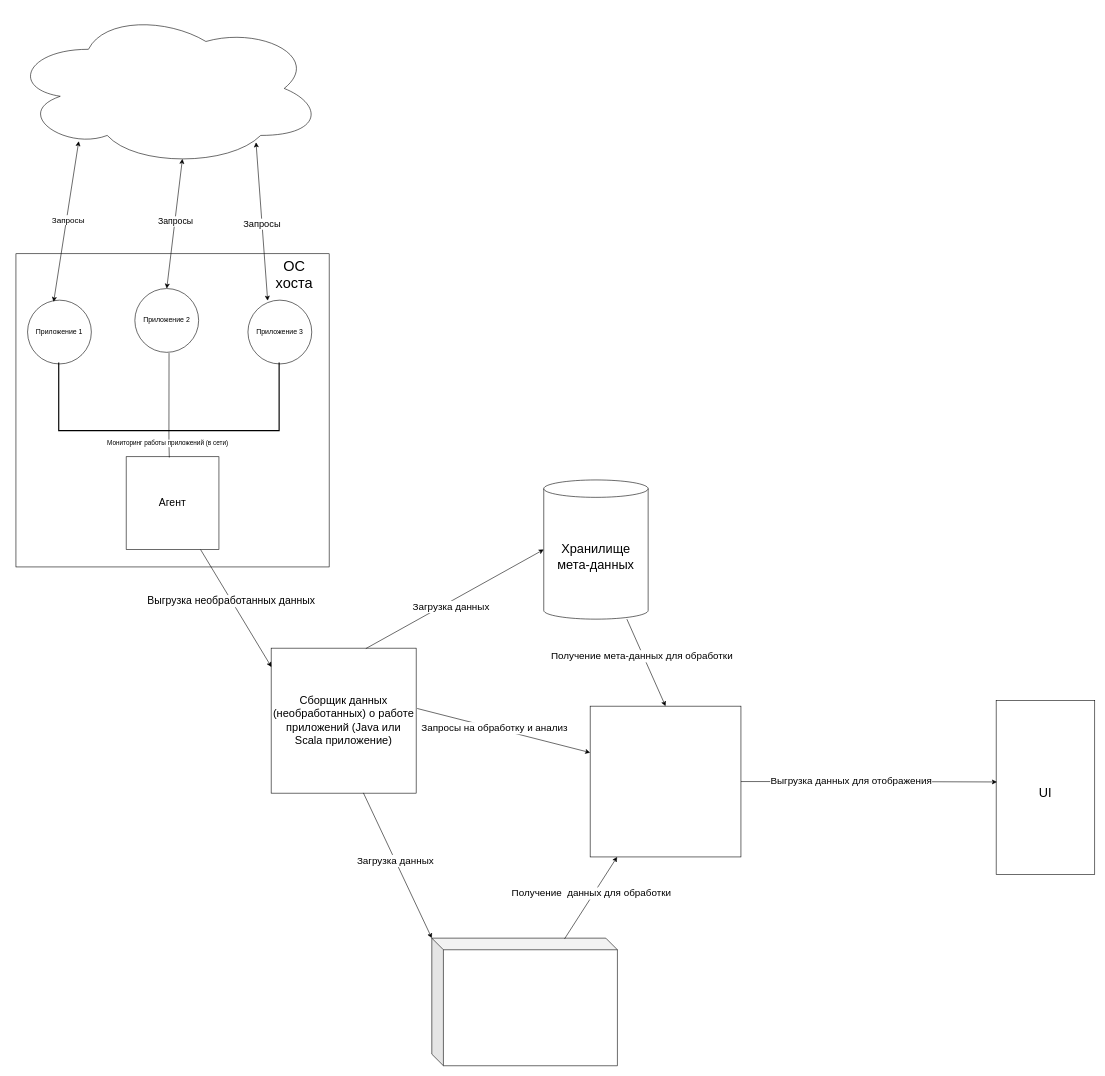
Some shapes in this 1105 by 1076 pixel diagram are drawn without their labels. Each missing label, with the box of its shape:
Объектное хранилище (S3): (431, 938, 617, 1066)
Распределенное приложения обработки и анализа данных (Spark): (590, 706, 741, 857)
Сеть: (10, 10, 323, 167)
